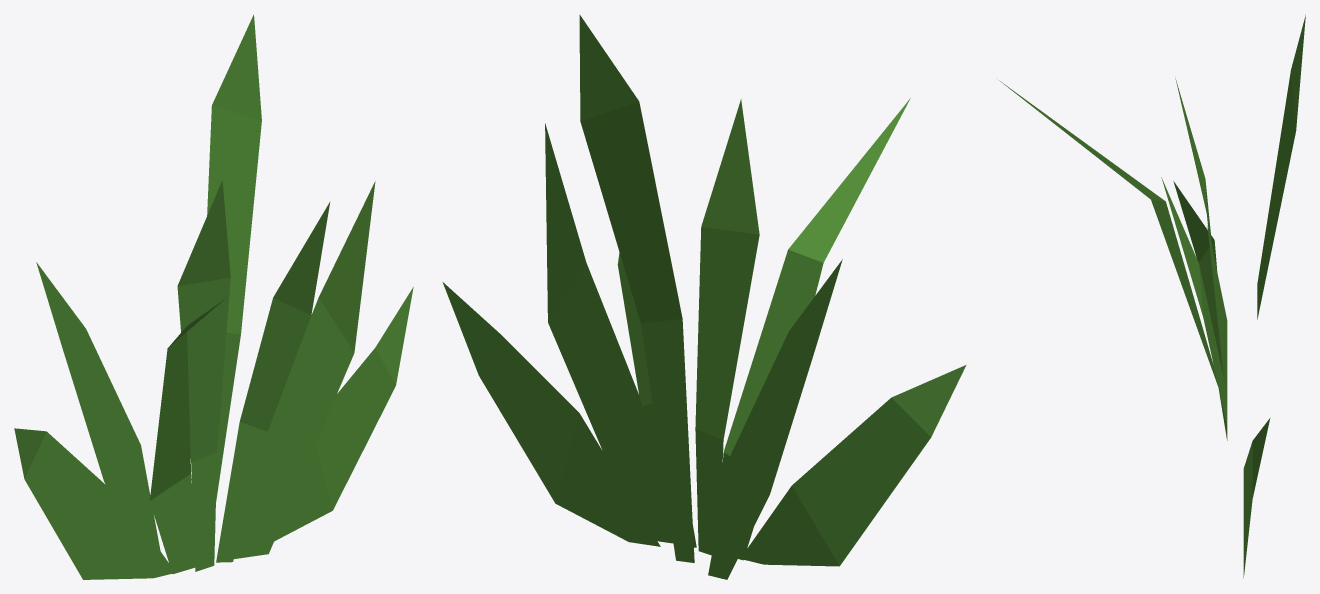
Rendered from grass-basic.glb.
3 views of the same model, side by side, from view 1: azimuth 30°, elevation 25°; view 2: azimuth 150°, elevation 25°; view 3: azimuth 270°, elevation 25° (orthographic). The views are drawn at different scales.
Visible parts, largest first — view 1: grass-basic; view 2: grass-basic; view 3: grass-basic.
Part boxes in pixels (<box>): grass-basic: <box>14,14,413,579</box>; grass-basic: <box>442,14,966,579</box>; grass-basic: <box>999,14,1305,577</box>.
Bounding box in the file's own units: 1.04 × 1.14 × 0.5743.
